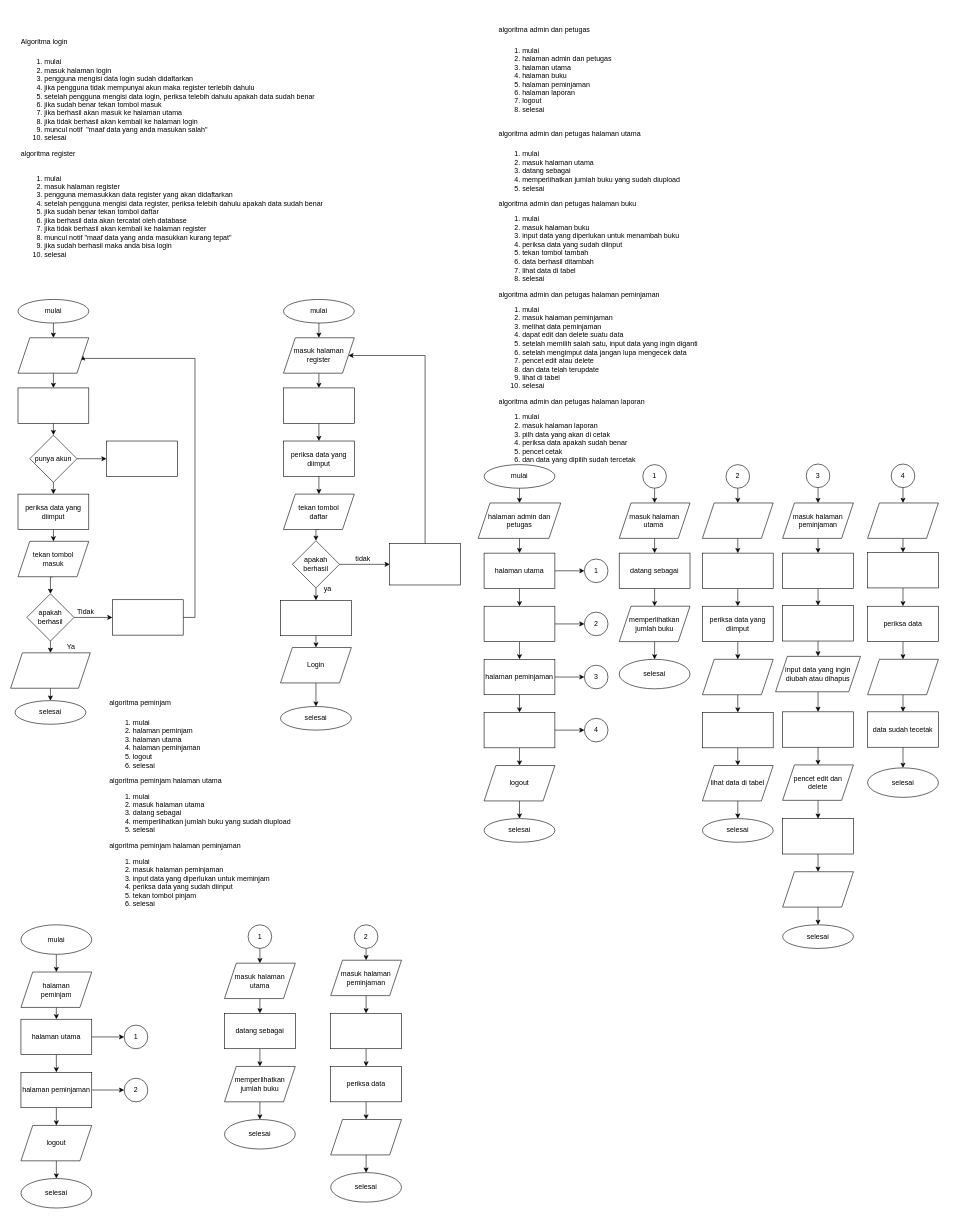
The diagram is 978 pixels wide and 1218 high, and some of its shapes have lost their labels. The shapes that lost their labels are listed below. From the top down, each one's centre as x and y in pixels, then its label:
pixel 53 355: masuk halaman login
pixel 53 405: mengisi data login
pixel 318 405: mengisi data register
pixel 141 458: tidak punya akun: register
pixel 737 520: masuk halaman buku
pixel 902 520: masuk halaman laporan
pixel 424 564: tidak berhasil maka ada notif "maaf data yang anda masukkan kurang tepat"
pixel 737 571: input data untuk menambah buku
pixel 817 571: melihat data peminjaman
pixel 902 570: pilih data
pixel 147 617: tidak berhasil maka ada notif "data yang anda masukkan salah"
pixel 315 618: berhasil masuk ke dalam database
pixel 519 624: halaman buku
pixel 817 623: dapat delete dan edit
pixel 50 670: berhasil masuk ke halaman utama
pixel 737 677: tambah
pixel 902 677: pencet cetak
pixel 519 730: halaman laporan
pixel 737 730: data berhasil ditambah
pixel 817 729: mengecek data
pixel 817 836: data telah terupdate
pixel 817 889: lihat tabel
pixel 365 1031: input data yang diperlukan
pixel 365 1137: tekan tombol pinjam
